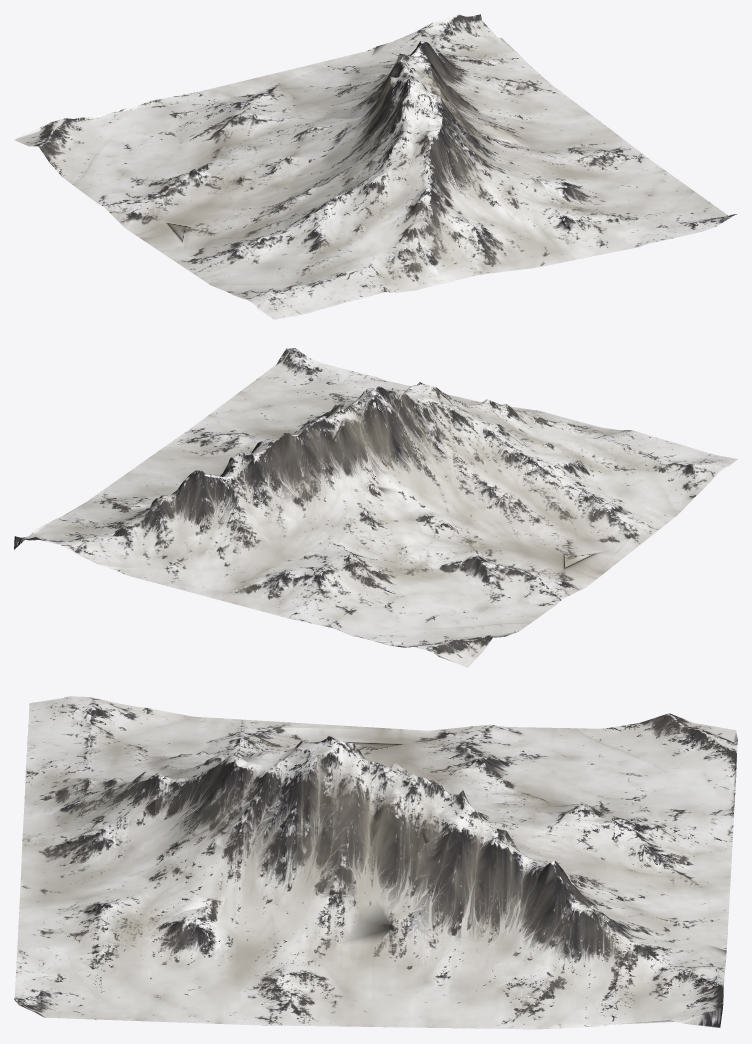
The model's file is realpeak.glb.
3 renders of one model, top to bottom at view 1: azimuth 30°, elevation 25°; view 2: azimuth 150°, elevation 25°; view 3: azimuth 270°, elevation 25°, orthographic. The views are drawn at different scales.
Parts seen in each view (by area): view 1: Plane001_01 - Default_0; view 2: Plane001_01 - Default_0; view 3: Plane001_01 - Default_0.
Part boxes in pixels (x1,y1,x2,y2): Plane001_01 - Default_0: (14, 14, 736, 319); Plane001_01 - Default_0: (14, 348, 737, 667); Plane001_01 - Default_0: (14, 696, 737, 1029).
Size of the model in its own units: 171 by 40 by 171.
Materials: 1 (1 with a texture image).
